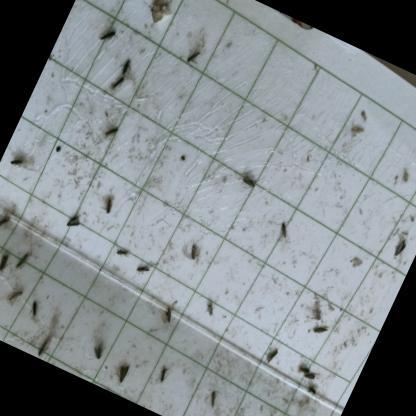prays_oleae: (96, 105, 132, 153), (254, 334, 291, 380), (78, 332, 115, 377), (137, 0, 186, 31), (56, 204, 90, 245), (1, 274, 31, 315), (304, 311, 338, 347), (176, 41, 208, 78), (95, 18, 124, 53), (203, 377, 231, 413), (232, 168, 261, 202), (31, 324, 58, 360), (0, 148, 30, 180), (386, 232, 413, 267), (158, 295, 184, 330), (102, 72, 128, 104), (270, 214, 294, 247), (10, 245, 35, 276), (96, 188, 120, 220), (182, 238, 209, 266), (112, 53, 138, 82), (108, 237, 134, 266), (110, 358, 136, 386), (128, 256, 152, 286), (198, 295, 222, 324), (152, 358, 174, 388), (23, 295, 46, 322), (0, 208, 17, 238), (302, 382, 321, 404), (300, 369, 320, 389), (293, 360, 313, 379), (0, 250, 13, 279)
